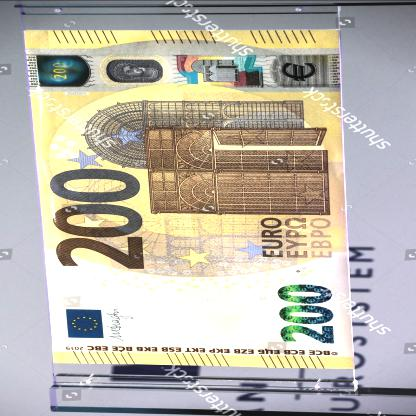euro_banknote: (20, 36, 361, 365)
